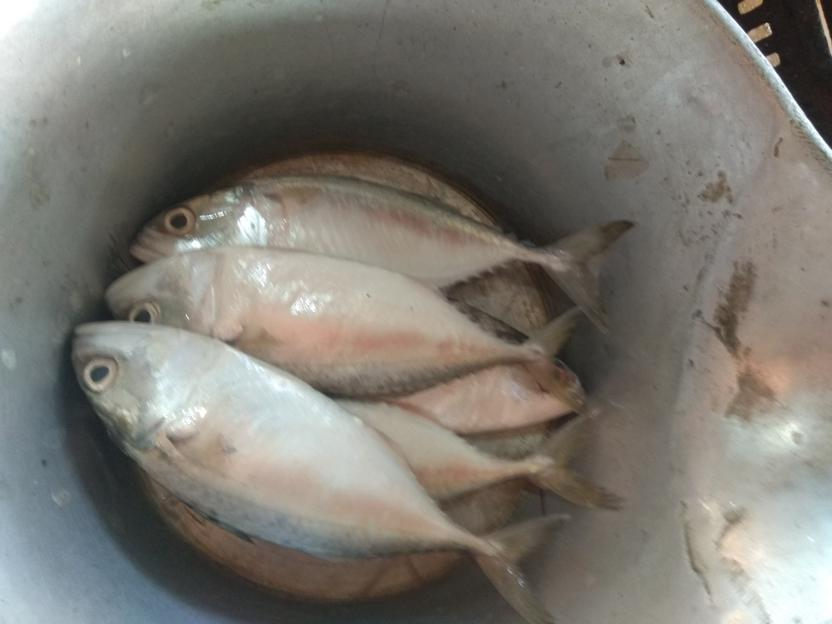Fish head: (69, 322, 226, 451), (129, 183, 260, 262), (103, 247, 218, 335)
Fish tail: (544, 218, 636, 339), (474, 510, 571, 624), (520, 301, 606, 425), (527, 408, 626, 510)
